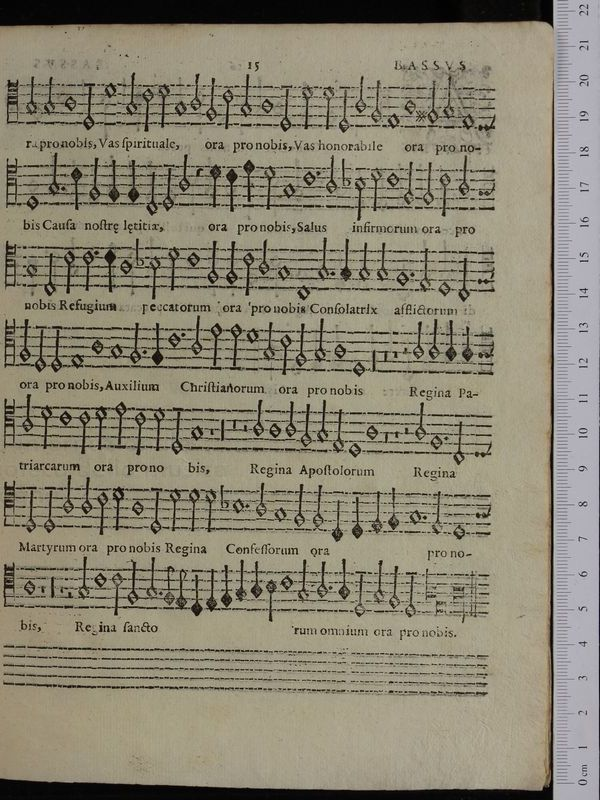breve rest: (380, 322, 389, 375)
c clef_5: (1, 316, 19, 373)
custos_7: (475, 331, 500, 373)
longa rest: (368, 323, 378, 376)
minim rest: (400, 322, 410, 374)
minim_11: (46, 323, 65, 374), (32, 322, 49, 373)
minim_3: (227, 316, 243, 372), (208, 316, 223, 370)
minim_5: (277, 324, 292, 374)
minim_7: (188, 310, 204, 360), (426, 316, 441, 364), (410, 316, 425, 362)
minim_8: (312, 312, 328, 366), (261, 316, 276, 365)
minim_9: (127, 316, 142, 370), (293, 317, 308, 371), (17, 318, 31, 365)
point: (136, 343, 150, 360), (175, 326, 188, 343)
semibreve rest: (390, 322, 400, 377)
semibreve_10: (69, 347, 84, 372)
semibreve_11: (350, 353, 368, 378)
semibreve_4: (243, 321, 258, 348)
semibreve_5: (164, 324, 182, 354)
semibreve_7: (88, 331, 106, 360), (331, 336, 348, 365)
semibreve_8: (107, 335, 126, 366)
semiminim_7: (442, 314, 459, 366), (460, 321, 475, 367)
semiminim_9: (148, 317, 164, 371)
